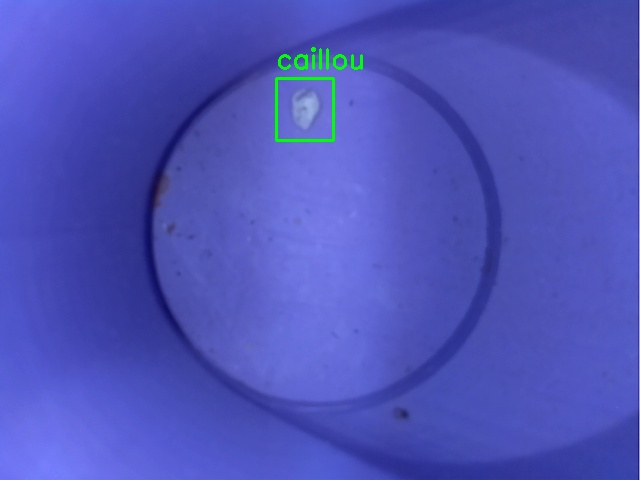caillou: (276, 78, 333, 140)
